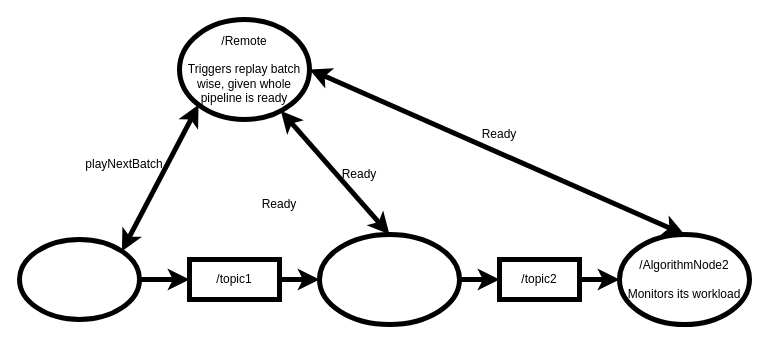
This 769x344 diagram has some shape labels left out. The shapes that lost their labels are listed below. From the top down, each one's centre as x and y in pixels, then its label:
At (x=79, y=279): "/rosbag2_player".
At (x=389, y=279): "/AlgorithmNode1 Monitors its workload".
